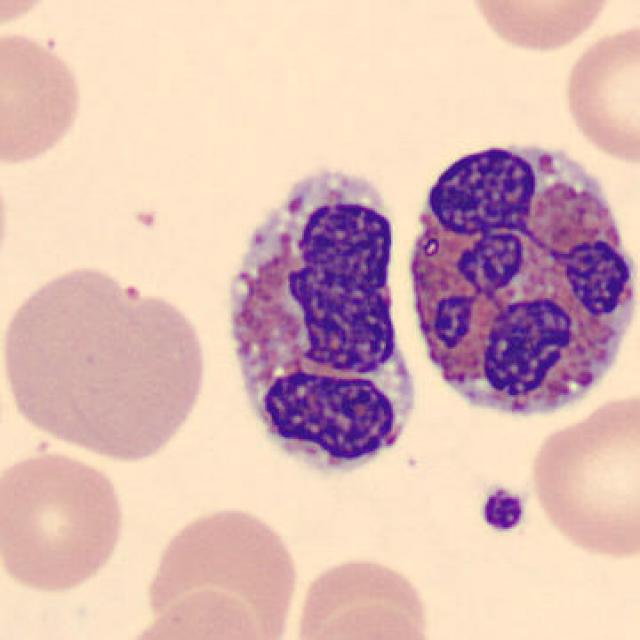Eosinophil: (391, 122, 640, 434), (210, 148, 428, 501)
Platelets: (476, 483, 528, 536)
RBC: (0, 257, 213, 465), (140, 501, 304, 638), (524, 390, 640, 560), (0, 446, 130, 596), (288, 550, 437, 640), (0, 26, 89, 171), (558, 19, 638, 166), (461, 0, 618, 55), (114, 585, 270, 640), (295, 599, 439, 640), (0, 0, 62, 35)
